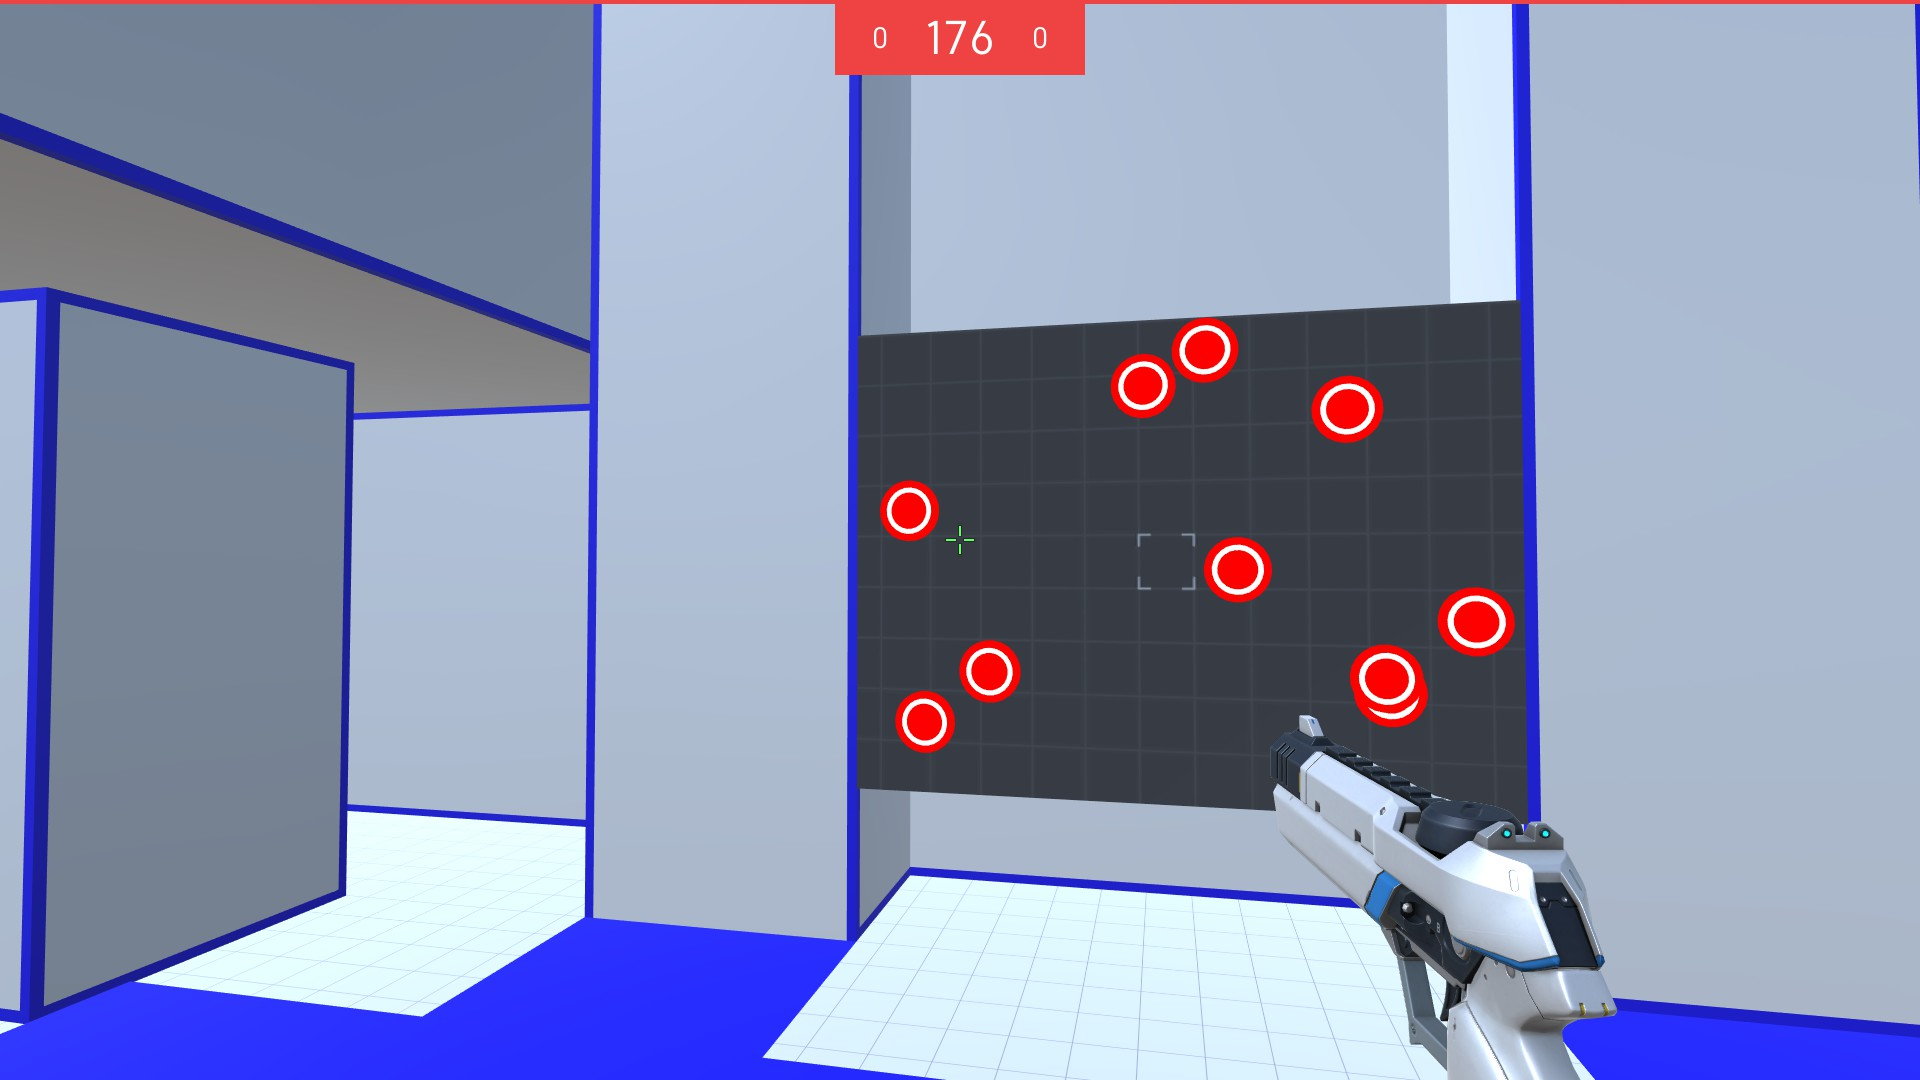target: (1427, 584, 1514, 658), (1308, 375, 1386, 444), (889, 686, 961, 754), (1105, 353, 1180, 419), (1201, 535, 1274, 603), (1348, 644, 1423, 707), (1172, 316, 1240, 384), (957, 637, 1023, 705), (878, 479, 942, 543)
